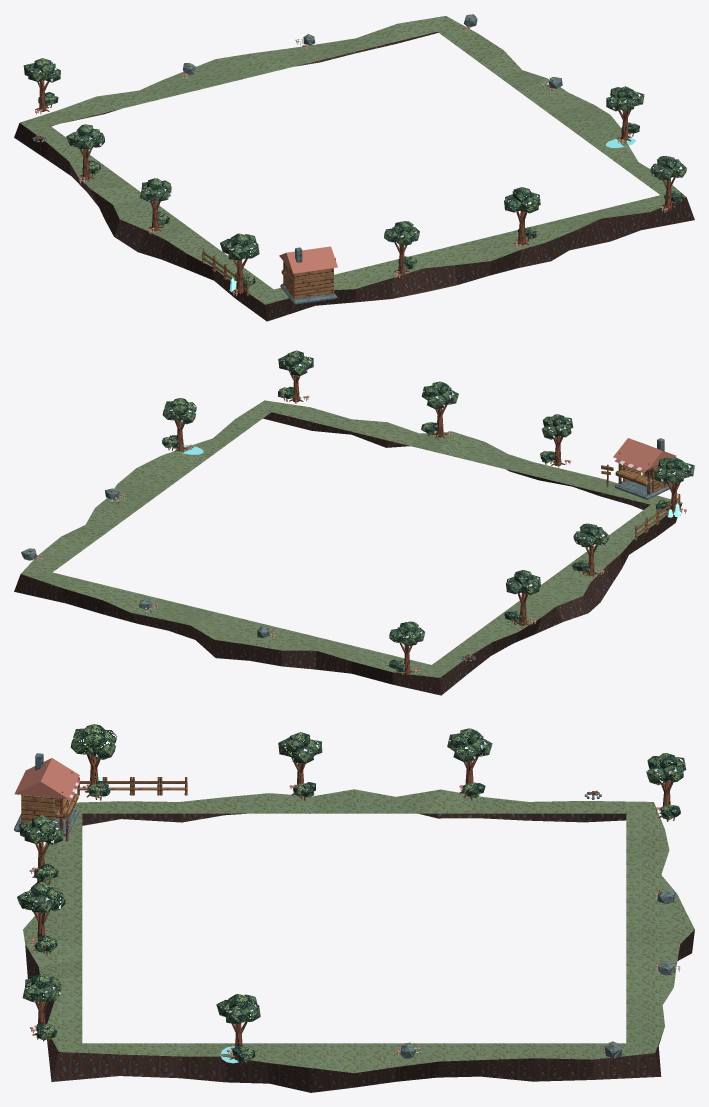
File: entorno_18.glb
3 renders of one model, top to bottom at view 1: azimuth 30°, elevation 25°; view 2: azimuth 150°, elevation 25°; view 3: azimuth 270°, elevation 25°, orthographic. The views are drawn at different scales.
Visible parts, largest first — view 1: bosque_entorno_18; view 2: bosque_entorno_18; view 3: bosque_entorno_18.
Boxes of the visible parts, x1=… form: bosque_entorno_18: x1=14, y1=14, x2=694, y2=321; bosque_entorno_18: x1=14, y1=350, x2=694, y2=695; bosque_entorno_18: x1=14, y1=724, x2=694, y2=1092.
Bounding box in the file's own units: 22.62 × 3.63 × 22.79.
Materials: 17 (6 with a texture image).
